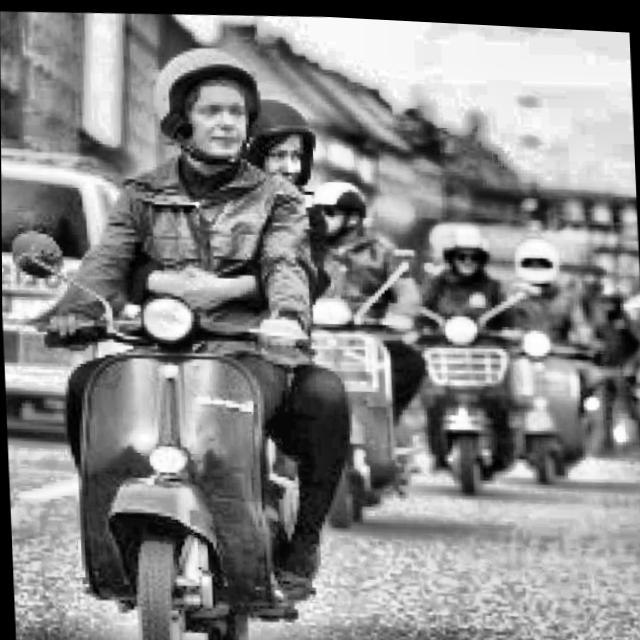motorcycle: (24, 193, 371, 640), (296, 223, 435, 533), (391, 260, 539, 498), (498, 297, 608, 485)
